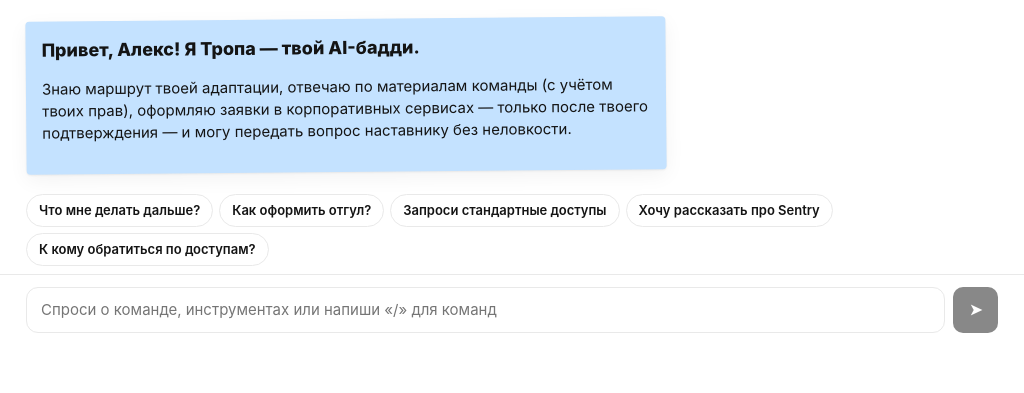
Scenario: Chat › [UI-04] cancel aborts an in-flight message
The image size is (1024, 393).
Type "долгий" into the text box named "Сообщение" at (486, 310), box [26, 287, 945, 333]
Then press Enter
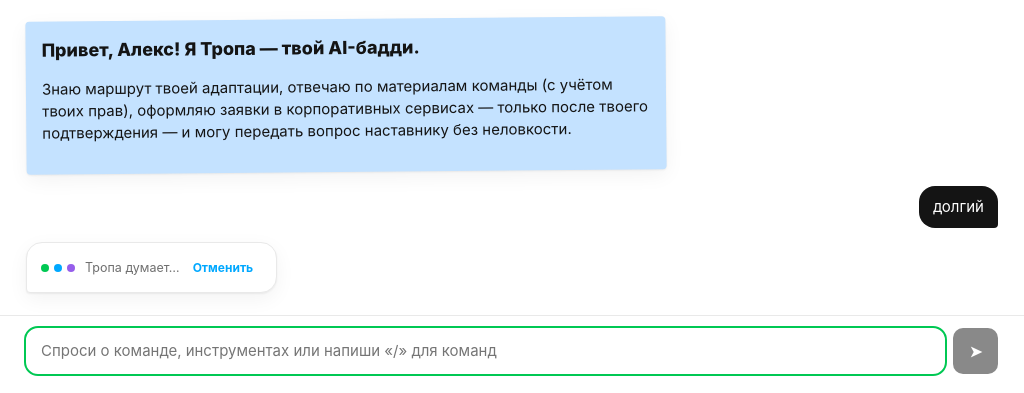
Expected: the text "Тропа думает…" is shown, [85, 259, 180, 277]
Click the button "Отменить" at (223, 268), box [184, 255, 262, 280]
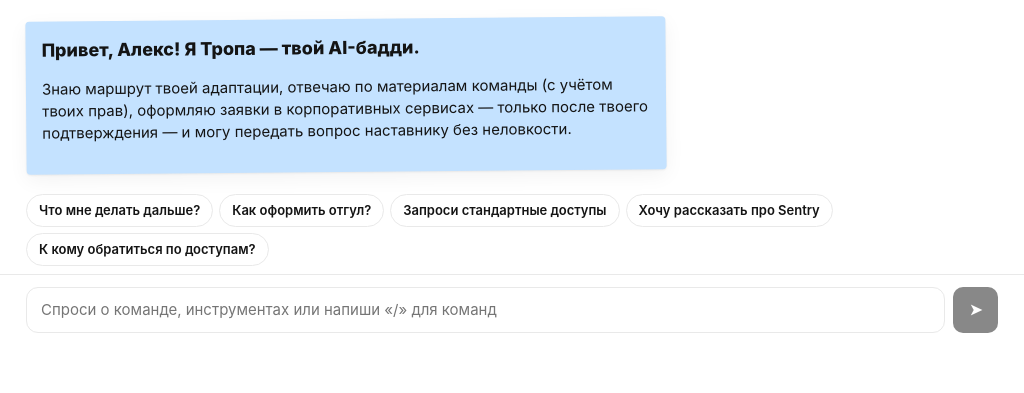
Expected: the text "Тропа думает…" is gone
Expected: the message is gone
